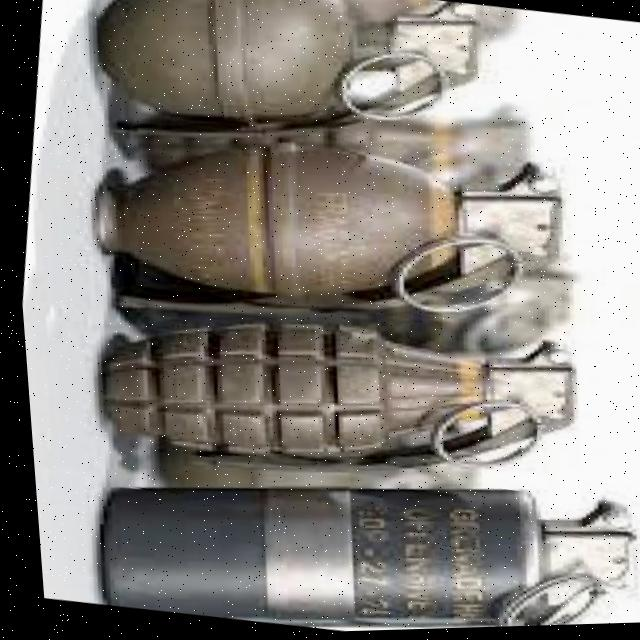grenade: (56, 80, 597, 384), (104, 265, 612, 539), (69, 414, 640, 639), (74, 0, 510, 177)
